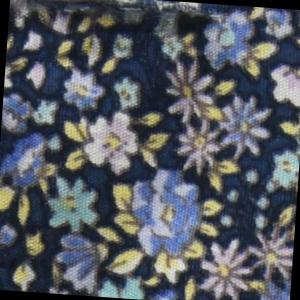Damage: (9, 1, 244, 47)
